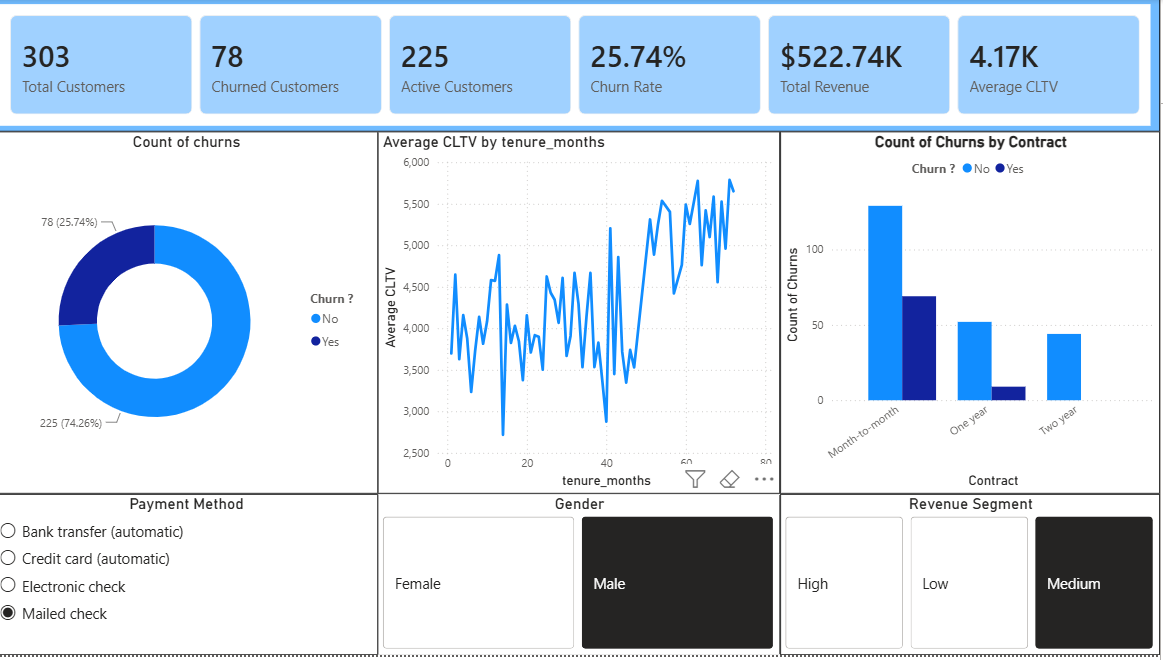

This screenshot's page, from the dashboard's own definition file:
{"tool":"powerbi","page":{"name":"Page 1","canvas":[1280,720],"ordinal":0},"visuals":[{"type":"cardVisual","fields":{"Data":["public telecom_churn.Total Customers","public telecom_churn.Churned Customers","public telecom_churn.Active Customers","public telecom_churn.Churn Rate","public telecom_churn.Total Revenue","public telecom_churn.Average CLTV"]},"box":[0,0,1280.3,145.5],"z":0},{"type":"clusteredColumnChart","title":"Count of Churns by Contract","fields":{"Category":["public telecom_churn.contract"],"Y":["CountNonNull(public telecom_churn.churn_label)"],"Series":["public telecom_churn.churn_label"]},"box":[863.1,145.5,417.2,397.9],"z":1000},{"type":"donutChart","title":"Count of churns","fields":{"Category":["public telecom_churn.churn_label"],"Y":["CountNonNull(public telecom_churn.churn_label)"]},"box":[0,145.5,421.3,397.9],"z":2000},{"type":"lineChart","fields":{"Category":["public telecom_churn.tenure_months"],"Y":["public telecom_churn.Average CLTV"]},"box":[421.3,145.5,441.9,397.9],"z":3000},{"type":"advancedSlicerVisual","title":"Gender","fields":{"Values":["public telecom_churn.gender"]},"box":[421.3,543.4,441.9,177],"z":4000},{"type":"listSlicer","title":"Payment Method","fields":{"Values":["public telecom_churn.payment_method"]},"box":[0,543.4,421.3,177],"z":5000},{"type":"advancedSlicerVisual","title":"Revenue Segment","fields":{"Values":["public telecom_churn.revenue_segment"]},"box":[863.1,543.4,417.2,177],"z":6000}]}

Visuals, with their boxes in screenshot pixels (x1, y1, x2, y2), scaled from the page's 1280x720 canvas onto the 1163x660 screenshot:
cardVisual - public telecom_churn.Total Customers x public telecom_churn.Churned Customers: bbox=[0, 0, 1162, 133]
"Count of Churns by Contract" clusteredColumnChart: bbox=[784, 133, 1162, 498]
"Count of churns" donutChart: bbox=[0, 133, 383, 498]
lineChart - public telecom_churn.tenure_months x public telecom_churn.Average CLTV: bbox=[383, 133, 784, 498]
"Gender" advancedSlicerVisual: bbox=[383, 498, 784, 659]
"Payment Method" listSlicer: bbox=[0, 498, 383, 659]
"Revenue Segment" advancedSlicerVisual: bbox=[784, 498, 1162, 659]
